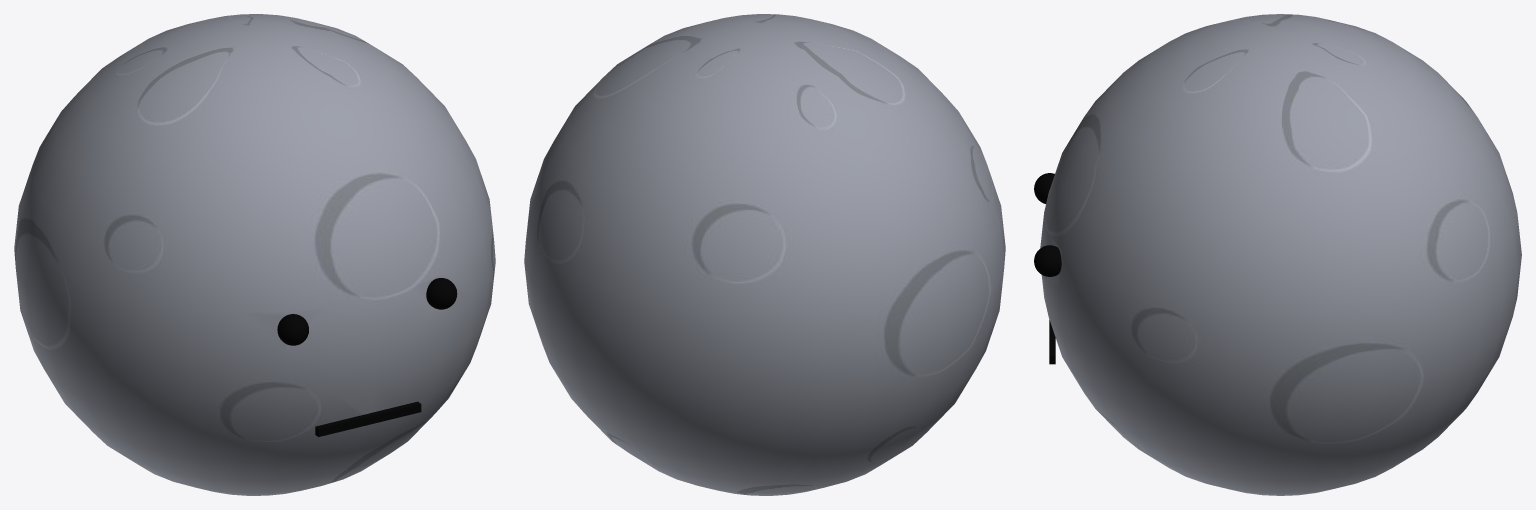
File: The Moon Boss prefab.fbx
3 renders of one model, left to right at view 1: azimuth 30°, elevation 25°; view 2: azimuth 150°, elevation 25°; view 3: azimuth 270°, elevation 25°, orthographic.
Visible parts, largest first — view 1: Sphere001; view 2: Sphere001; view 3: Sphere001.
Part boxes in pixels (bbox=[...]): Sphere001: bbox=[14, 14, 495, 495]; Sphere001: bbox=[524, 14, 1005, 495]; Sphere001: bbox=[1034, 14, 1521, 495].
Size of the model in its own units: 52.98 by 52.98 by 53.59.
Materials: 2 (1 with a texture image).
